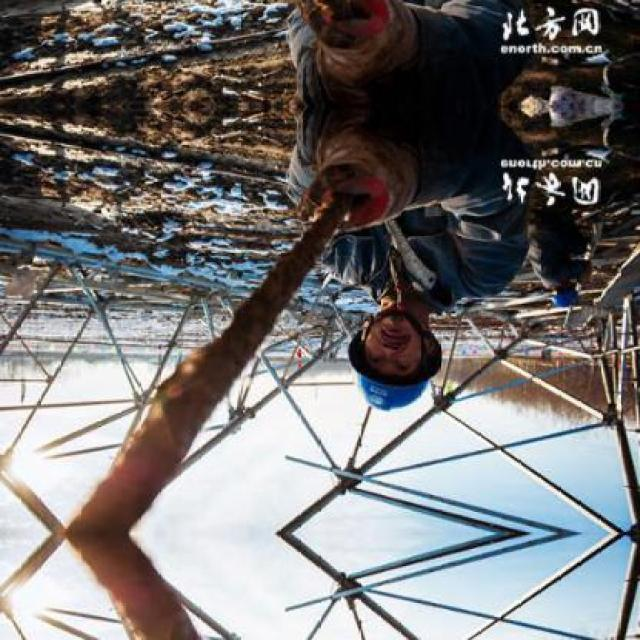safetyhelmet: (344, 307, 441, 413)
